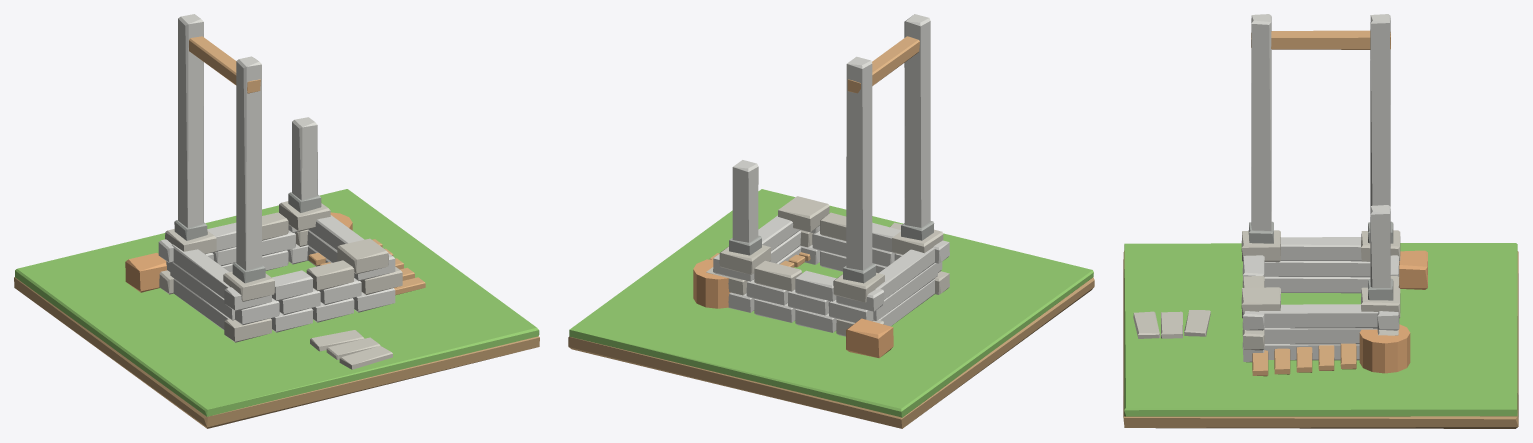
Rendered from tower_l05_construction_LOD1.glb.
The picture shows the model from 3 angles, left to right: view 1: azimuth 30°, elevation 25°; view 2: azimuth 150°, elevation 25°; view 3: azimuth 270°, elevation 25°; orthographic projection. The views are drawn at different scales.
Visible parts, largest first — view 1: tower_l05_grass_tile_tower_l05_construction_LOD1_tmp, tower_l05_earth_tile_tower_l05_construction_LOD1_tmp, post_-0.61_-0.54_tower_l05_construction_LOD1_tmp, post_-0.61_0.54_tower_l05_construction_LOD1_tmp, post_0.61_0.54_tower_l05_construction_LOD1_tmp, stone_return_2_-0.72_tower_l05_construction_LOD1_tmp, foot_0.61_-0.54_tower_l05_construction_LOD1_tmp, temporary_crossbar_tower_l05_construction_LOD1_tmp, unmounted_instrument_case_tower_l05_construction_LOD1_tmp, stone_course_2_-1_2_tower_l05_construction_LOD1_tmp, stone_return_1_-0.72_tower_l05_construction_LOD1_tmp, stone_return_2_0.72_tower_l05_construction_LOD1_tmp (+20 smaller); view 2: tower_l05_grass_tile_tower_l05_construction_LOD1_tmp, tower_l05_earth_tile_tower_l05_construction_LOD1_tmp, post_-0.61_0.54_tower_l05_construction_LOD1_tmp, post_-0.61_-0.54_tower_l05_construction_LOD1_tmp, post_0.61_0.54_tower_l05_construction_LOD1_tmp, unmounted_instrument_case_tower_l05_construction_LOD1_tmp, stone_return_2_-0.72_tower_l05_construction_LOD1_tmp, unmounted_relay_drum_tower_l05_construction_LOD1_tmp, temporary_crossbar_tower_l05_construction_LOD1_tmp, foot_0.61_-0.54_tower_l05_construction_LOD1_tmp, stone_course_2_1_2_tower_l05_construction_LOD1_tmp, stone_return_1_-0.72_tower_l05_construction_LOD1_tmp (+15 smaller); view 3: tower_l05_grass_tile_tower_l05_construction_LOD1_tmp, tower_l05_earth_tile_tower_l05_construction_LOD1_tmp, post_-0.61_-0.54_tower_l05_construction_LOD1_tmp, post_-0.61_0.54_tower_l05_construction_LOD1_tmp, stone_return_2_0.72_tower_l05_construction_LOD1_tmp, unmounted_relay_drum_tower_l05_construction_LOD1_tmp, temporary_crossbar_tower_l05_construction_LOD1_tmp, stone_return_2_-0.72_tower_l05_construction_LOD1_tmp, post_0.61_0.54_tower_l05_construction_LOD1_tmp, stone_return_1_-0.72_tower_l05_construction_LOD1_tmp, stone_return_1_0.72_tower_l05_construction_LOD1_tmp, stone_return_0_-0.72_tower_l05_construction_LOD1_tmp (+20 smaller).
Part boxes in pixels (<box>): tower_l05_grass_tile_tower_l05_construction_LOD1_tmp: <box>15,189,539,416</box>; tower_l05_earth_tile_tower_l05_construction_LOD1_tmp: <box>14,277,539,428</box>; post_-0.61_-0.54_tower_l05_construction_LOD1_tmp: <box>236,56,261,270</box>; post_-0.61_0.54_tower_l05_construction_LOD1_tmp: <box>178,14,203,227</box>; post_0.61_0.54_tower_l05_construction_LOD1_tmp: <box>292,117,317,200</box>; stone_return_2_-0.72_tower_l05_construction_LOD1_tmp: <box>172,244,230,298</box>; foot_0.61_-0.54_tower_l05_construction_LOD1_tmp: <box>337,238,388,274</box>; temporary_crossbar_tower_l05_construction_LOD1_tmp: <box>189,36,260,93</box>; unmounted_instrument_case_tower_l05_construction_LOD1_tmp: <box>125,253,166,292</box>; stone_course_2_-1_2_tower_l05_construction_LOD1_tmp: <box>306,260,354,290</box>; stone_return_1_-0.72_tower_l05_construction_LOD1_tmp: <box>170,262,234,320</box>; stone_return_2_0.72_tower_l05_construction_LOD1_tmp: <box>308,215,364,250</box>; tower_l05_grass_tile_tower_l05_construction_LOD1_tmp: <box>569,189,1093,417</box>; tower_l05_earth_tile_tower_l05_construction_LOD1_tmp: <box>568,277,1094,428</box>; post_-0.61_0.54_tower_l05_construction_LOD1_tmp: <box>846,56,872,270</box>; post_-0.61_-0.54_tower_l05_construction_LOD1_tmp: <box>904,14,930,227</box>; post_0.61_0.54_tower_l05_construction_LOD1_tmp: <box>732,160,758,242</box>; unmounted_instrument_case_tower_l05_construction_LOD1_tmp: <box>846,318,893,357</box>; stone_return_2_-0.72_tower_l05_construction_LOD1_tmp: <box>875,247,935,299</box>; unmounted_relay_drum_tower_l05_construction_LOD1_tmp: <box>693,259,730,308</box>; temporary_crossbar_tower_l05_construction_LOD1_tmp: <box>847,36,919,93</box>; foot_0.61_-0.54_tower_l05_construction_LOD1_tmp: <box>778,196,829,231</box>; stone_course_2_1_2_tower_l05_construction_LOD1_tmp: <box>754,260,801,291</box>; stone_return_1_-0.72_tower_l05_construction_LOD1_tmp: <box>873,263,937,320</box>; tower_l05_grass_tile_tower_l05_construction_LOD1_tmp: <box>1124,243,1517,416</box>; tower_l05_earth_tile_tower_l05_construction_LOD1_tmp: <box>1123,251,1518,428</box>; post_-0.61_-0.54_tower_l05_construction_LOD1_tmp: <box>1251,14,1271,230</box>; post_-0.61_0.54_tower_l05_construction_LOD1_tmp: <box>1370,14,1390,212</box>; stone_return_2_0.72_tower_l05_construction_LOD1_tmp: <box>1258,304,1378,328</box>; unmounted_relay_drum_tower_l05_construction_LOD1_tmp: <box>1359,324,1410,373</box>; temporary_crossbar_tower_l05_construction_LOD1_tmp: <box>1251,30,1390,49</box>; stone_return_2_-0.72_tower_l05_construction_LOD1_tmp: <box>1281,237,1361,261</box>; post_0.61_0.54_tower_l05_construction_LOD1_tmp: <box>1370,205,1390,287</box>; stone_return_1_-0.72_tower_l05_construction_LOD1_tmp: <box>1264,261,1370,277</box>; stone_return_1_0.72_tower_l05_construction_LOD1_tmp: <box>1264,328,1377,344</box>; stone_return_0_-0.72_tower_l05_construction_LOD1_tmp: <box>1264,276,1370,293</box>.
Size of the model in its own units: 3.6 by 3.01 by 3.58.
